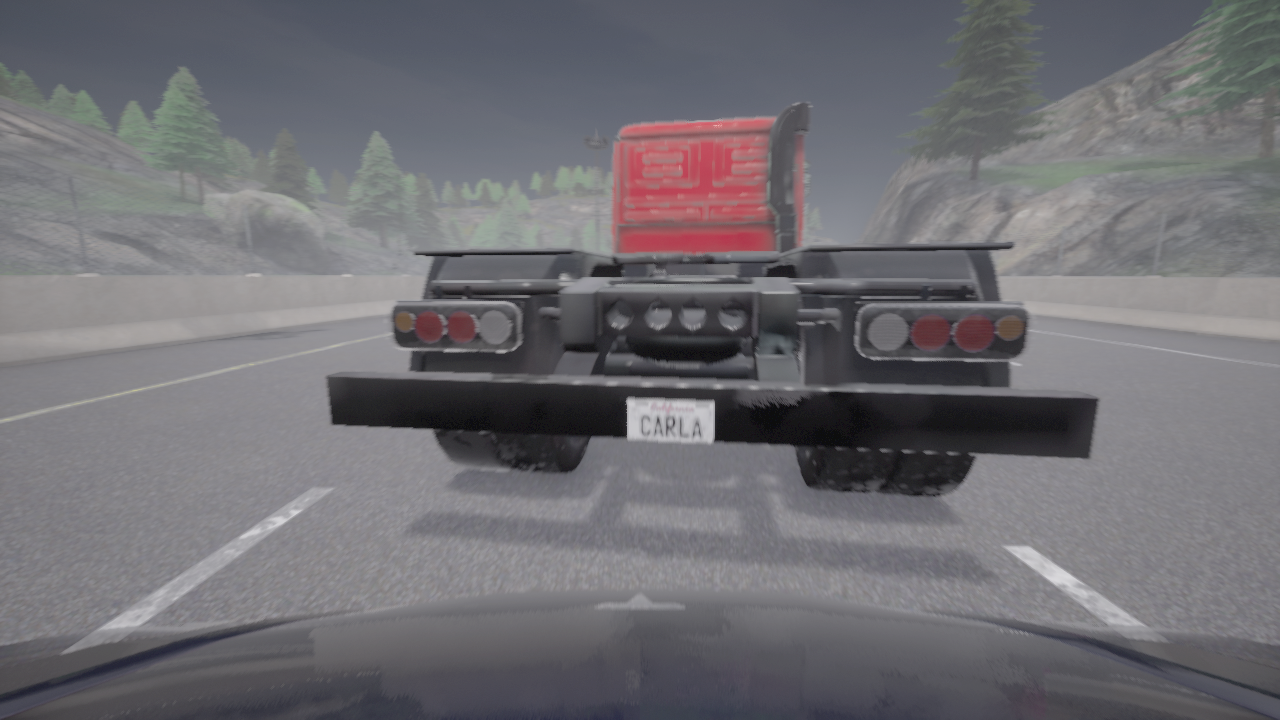cyclist: (325, 102, 1099, 497), (0, 588, 1279, 719)
